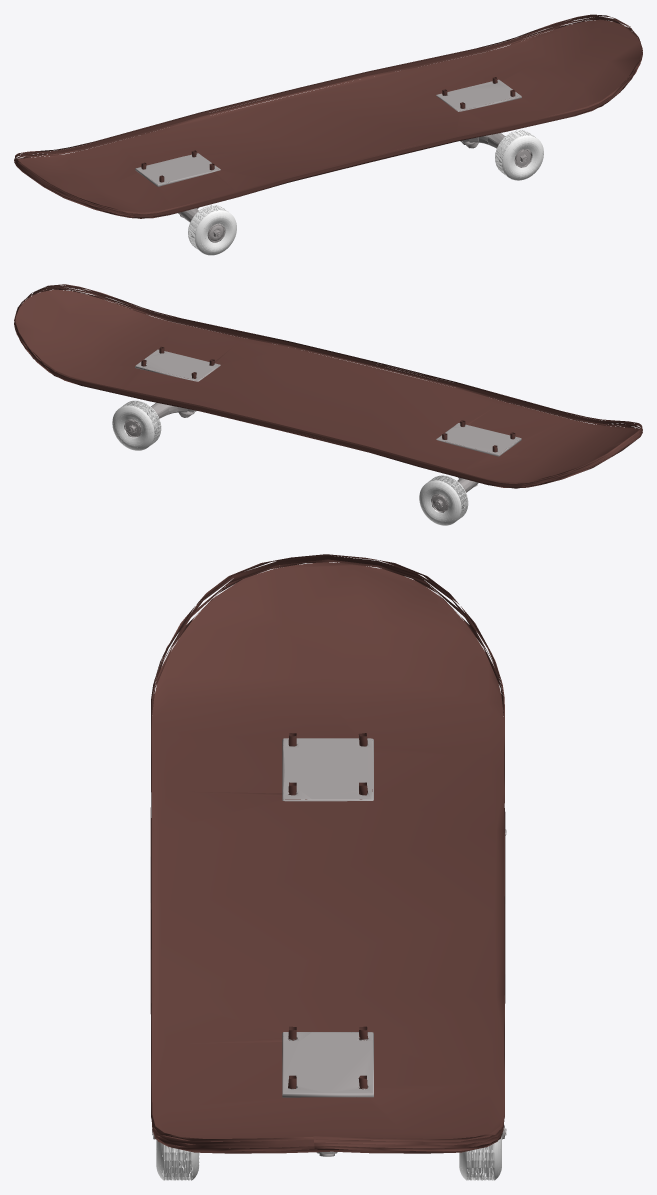
The model's file is skate2-small.glb.
3 views of the same model, one above another, from view 1: azimuth 30°, elevation 25°; view 2: azimuth 150°, elevation 25°; view 3: azimuth 270°, elevation 25° (orthographic). The views are drawn at different scales.
Parts seen in each view (by area): view 1: Text; view 2: Text; view 3: Text.
Part boxes in pixels (left/top/right/bottom): Text: left=14, top=14, right=642, bottom=255; Text: left=14, top=284, right=642, bottom=525; Text: left=150, top=554, right=506, bottom=1180.
Size of the model in its own units: 8.63 by 1.24 by 2.21.
1 material, 1 textured.
